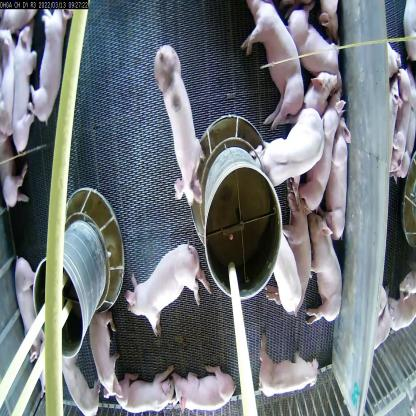Pig: (238, 0, 298, 131), (134, 224, 208, 324), (156, 28, 198, 202), (30, 3, 76, 128), (265, 96, 324, 190), (281, 1, 334, 91), (5, 267, 46, 383), (167, 361, 250, 416), (306, 86, 343, 202), (314, 217, 352, 329), (6, 44, 42, 149), (82, 302, 122, 395), (62, 336, 105, 416), (270, 221, 300, 334), (258, 350, 322, 402), (125, 363, 175, 416), (290, 190, 317, 280)
